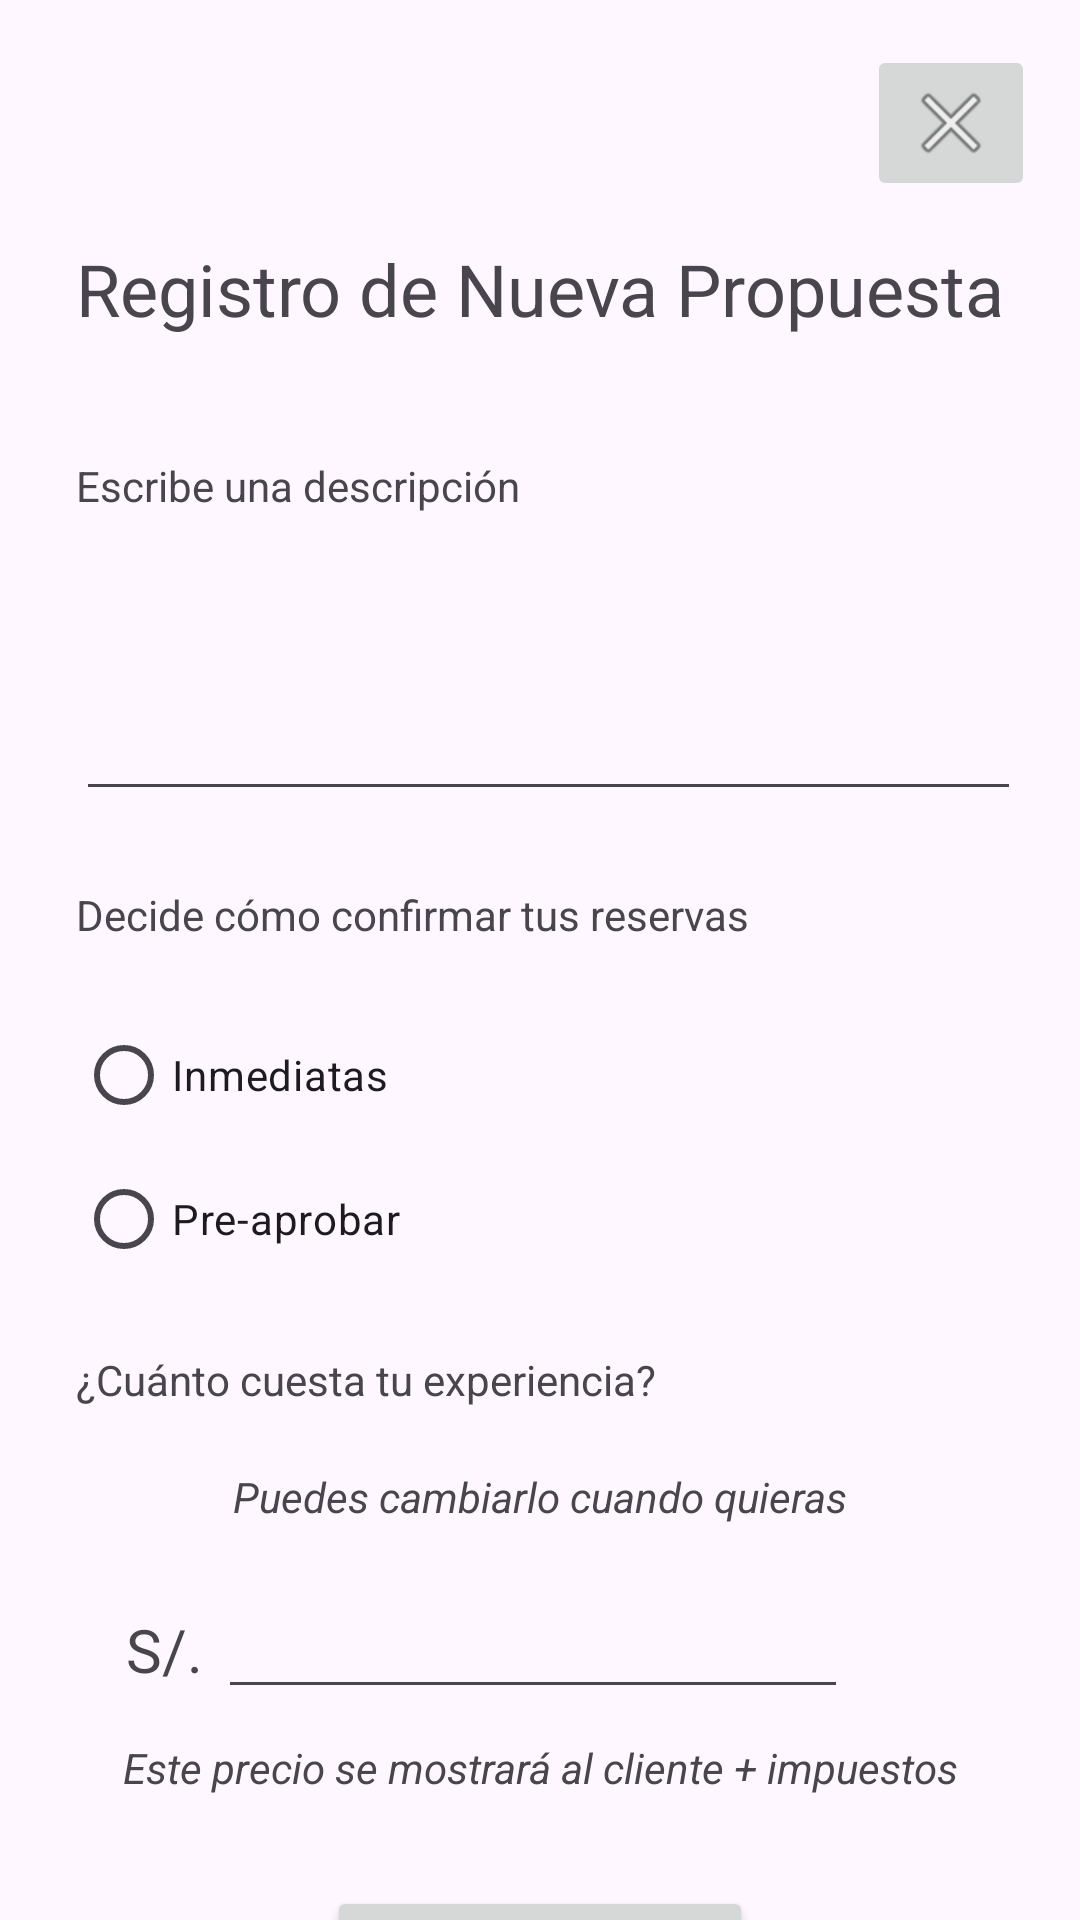

Where icons sit on this 1080x1920 app screen, as (left=x1, top=y1, right=x2, bottom=y2):
close clear cancel: (left=879, top=63, right=1023, bottom=183)
